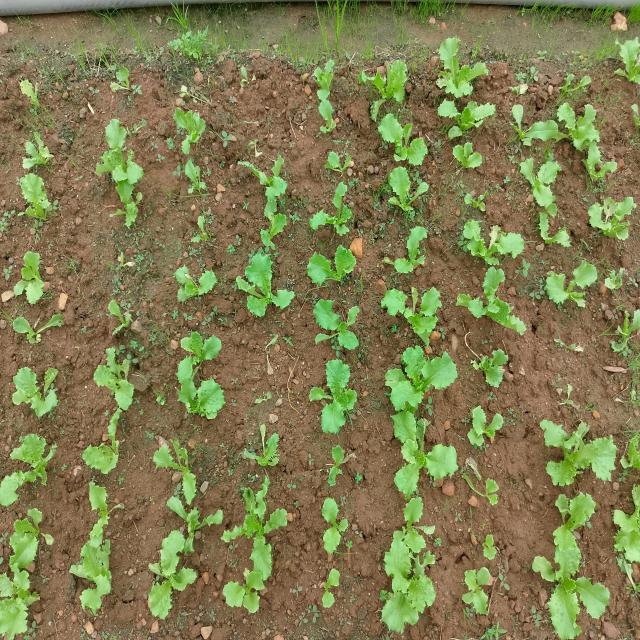Lettuce: (223, 480, 297, 613), (536, 404, 610, 498), (166, 332, 236, 426), (383, 417, 459, 494), (93, 113, 144, 225), (372, 540, 436, 628), (381, 341, 461, 411), (141, 528, 202, 616), (455, 264, 526, 338), (306, 351, 366, 434), (380, 279, 449, 350), (68, 523, 119, 615), (457, 213, 529, 278), (1, 358, 71, 424), (0, 435, 55, 518), (233, 254, 300, 319), (240, 154, 293, 231), (432, 34, 492, 99), (542, 488, 598, 556), (148, 486, 222, 537), (171, 327, 226, 391), (311, 294, 368, 354), (548, 99, 606, 157), (540, 259, 600, 315), (8, 496, 51, 574), (95, 352, 152, 410), (0, 568, 45, 640), (374, 164, 432, 219), (374, 113, 431, 168), (512, 153, 564, 211), (81, 405, 128, 469), (310, 489, 356, 553), (466, 344, 521, 396), (6, 249, 55, 307), (584, 193, 639, 243), (311, 184, 359, 240), (156, 440, 200, 498), (8, 309, 69, 350), (438, 97, 496, 139), (304, 246, 359, 290), (366, 61, 414, 110), (167, 263, 221, 306), (392, 225, 434, 280), (166, 106, 211, 157), (18, 168, 56, 222), (76, 482, 122, 526), (581, 150, 620, 193), (611, 37, 640, 90), (20, 137, 56, 173), (450, 140, 485, 172)
